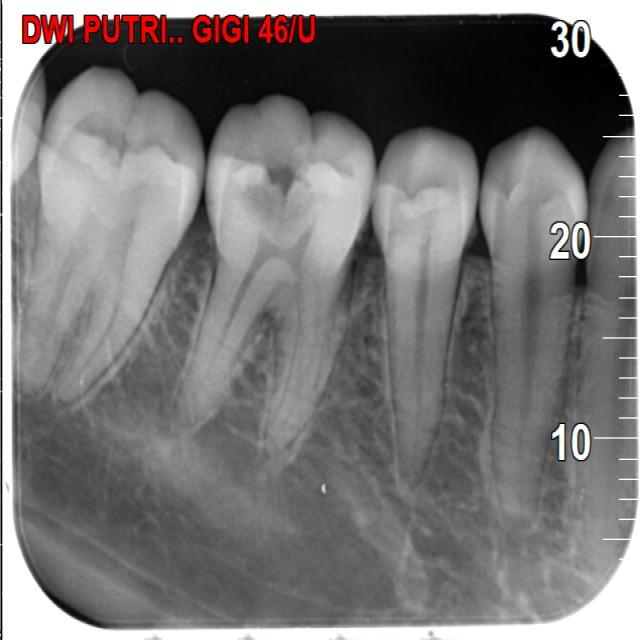individual-tooth-8tto: (186, 97, 377, 451), (13, 68, 205, 400), (476, 136, 586, 520), (369, 122, 473, 468)
